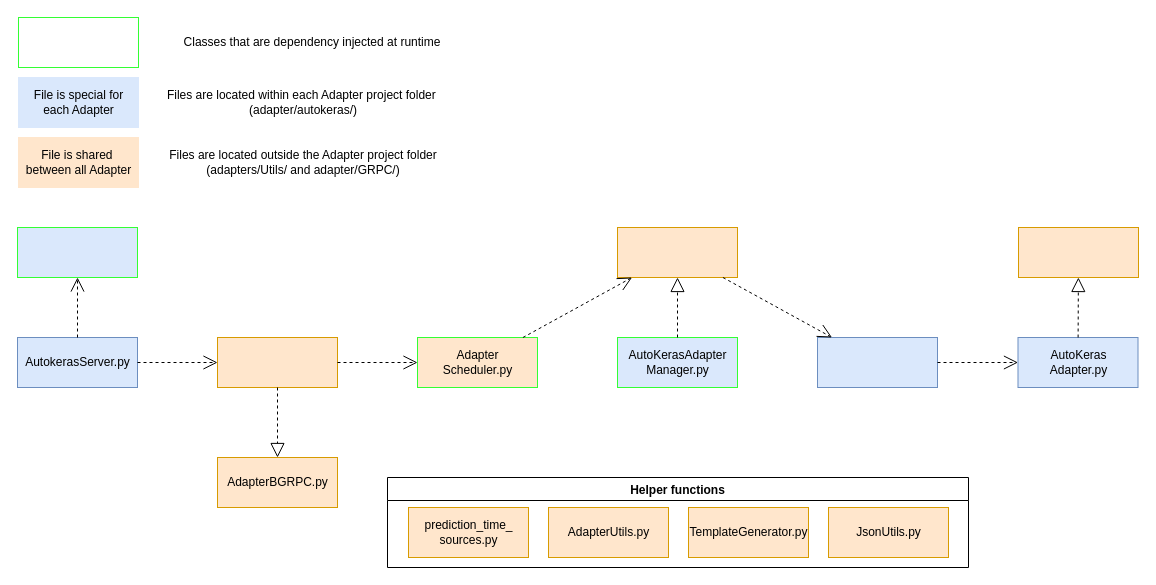
This 1156x585 diagram has some shape labels left out. The shapes that lost their labels are listed below. From the top down, each one's centre as x and y in pixels, then its label:
At point (77, 252): "Container.py".
At point (677, 252): "AdapterManager.py".
At point (1078, 252): "AbstractAdapter.py".
At point (277, 362): "AdapterService.py".
At point (877, 362): "AutoML.py".
